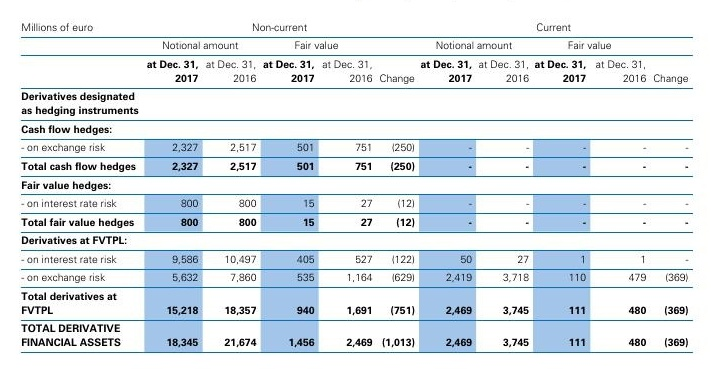table: (0, 0, 711, 369)
